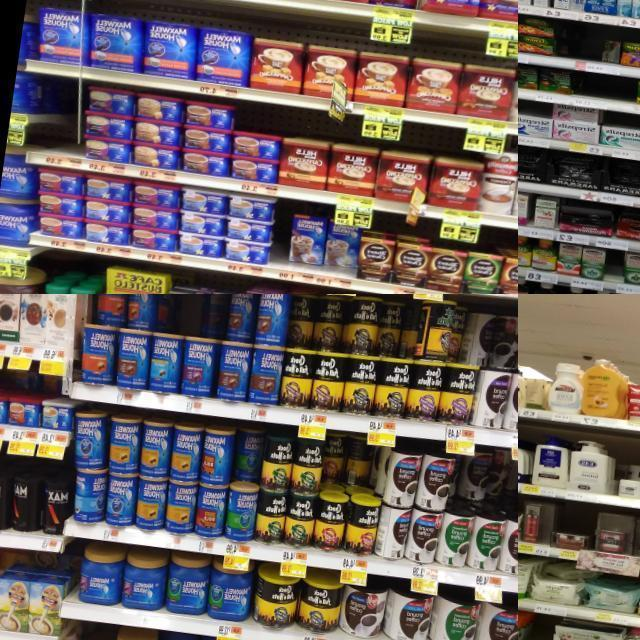Imprecise: (284, 288, 412, 417), (445, 438, 518, 577), (320, 427, 382, 560), (458, 302, 517, 428), (146, 295, 220, 395), (291, 217, 358, 280), (227, 428, 261, 536)
